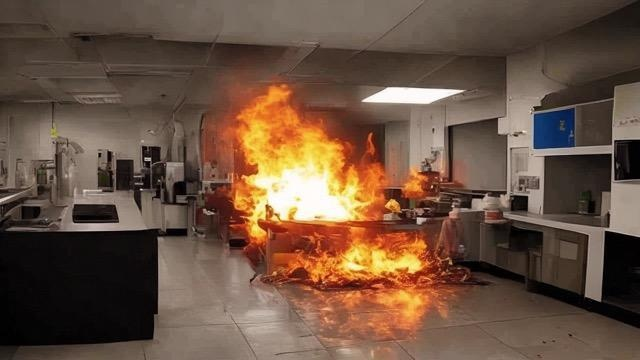fire: (220, 76, 467, 308)
